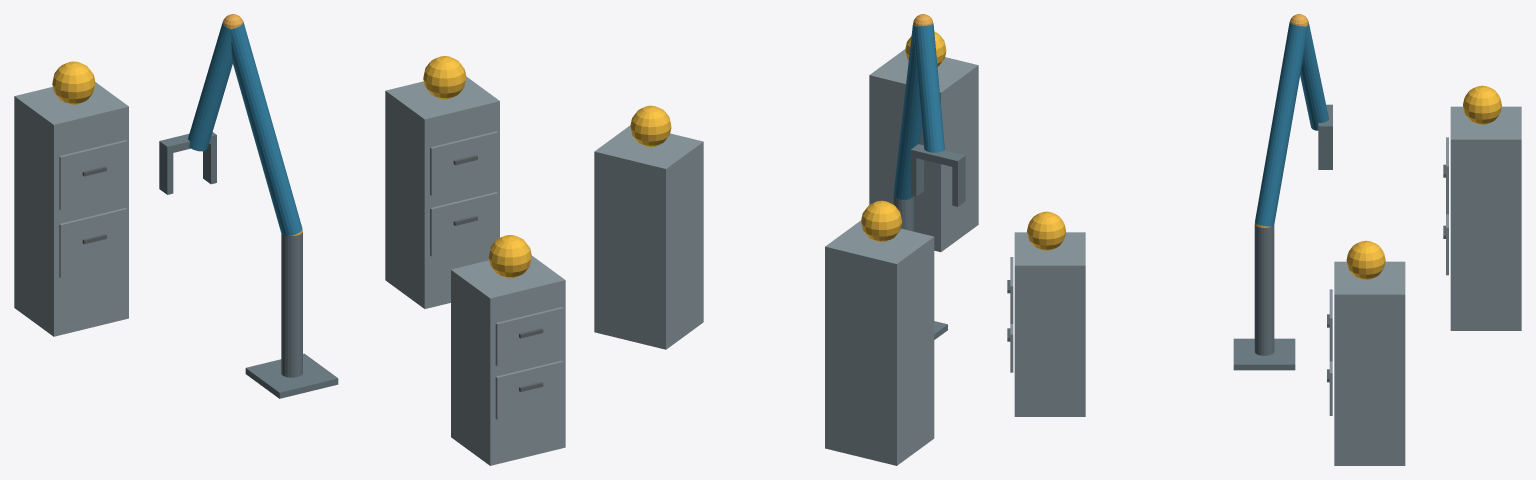
3 views of the same model, side by side, from view 1: azimuth 30°, elevation 25°; view 2: azimuth 150°, elevation 25°; view 3: azimuth 270°, elevation 25° (orthographic). The views are drawn at different scales.
Parts seen in each view (by area): view 1: cabinet_3 body, cabinet_1 body, cabinet_2 body, moving link 1, cabinet_3 drawer front, cabinet_3 drawer front.001, cabinet_2 drawer front.001, cabinet_2 drawer front, fixed post, cabinet_1 drawer front, cabinet_1 drawer front.001, moving link 2 (+5 smaller); view 2: cabinet_3 body, cabinet_2 body, cabinet_1 body, moving link 2, moving link 1, released ball_2, ball ball_3, gripper bridge, gripper finger -1, gripper finger 1, fixed post; view 3: cabinet_3 body, cabinet_2 body, cabinet_1 body, moving link 1, fixed post, pedestal, moving link 2, released ball_2, released ball_1, ball ball_3, gripper finger 1.
Part boxes in pixels (<box>): cabinet_3 body: <box>14,82,128,336</box>; cabinet_1 body: <box>451,255,565,465</box>; cabinet_2 body: <box>385,76,499,308</box>; moving link 1: <box>231,22,302,236</box>; cabinet_3 drawer front: <box>59,208,126,277</box>; cabinet_3 drawer front.001: <box>59,140,126,210</box>; cabinet_2 drawer front.001: <box>430,131,497,195</box>; cabinet_2 drawer front: <box>430,192,497,256</box>; fixed post: <box>281,232,302,377</box>; cabinet_1 drawer front: <box>495,360,563,419</box>; cabinet_1 drawer front.001: <box>495,307,563,365</box>; moving link 2: <box>188,21,232,151</box>; cabinet_3 body: <box>825,220,934,465</box>; cabinet_2 body: <box>594,125,703,349</box>; cabinet_1 body: <box>869,49,978,251</box>; moving link 2: <box>913,23,944,152</box>; moving link 1: <box>893,23,921,199</box>; released ball_2: <box>630,105,671,146</box>; ball ball_3: <box>861,200,901,241</box>; gripper bridge: <box>910,144,965,167</box>; gripper finger -1: <box>952,163,965,206</box>; gripper finger 1: <box>910,157,923,196</box>; fixed post: <box>893,195,913,231</box>; cabinet_3 body: <box>1450,106,1521,330</box>; cabinet_2 body: <box>1334,261,1405,465</box>; cabinet_1 body: <box>1014,232,1085,416</box>; moving link 1: <box>1255,22,1306,226</box>; fixed post: <box>1254,224,1274,355</box>; pedestal: <box>1233,338,1295,370</box>; moving link 2: <box>1300,22,1328,130</box>; released ball_2: <box>1346,240,1385,279</box>; released ball_1: <box>1027,211,1065,250</box>; ball ball_3: <box>1463,85,1501,124</box>; gripper finger 1: <box>1318,133,1332,169</box>.
Size of the model in its own units: 1.62 by 1.46 by 2.1.
